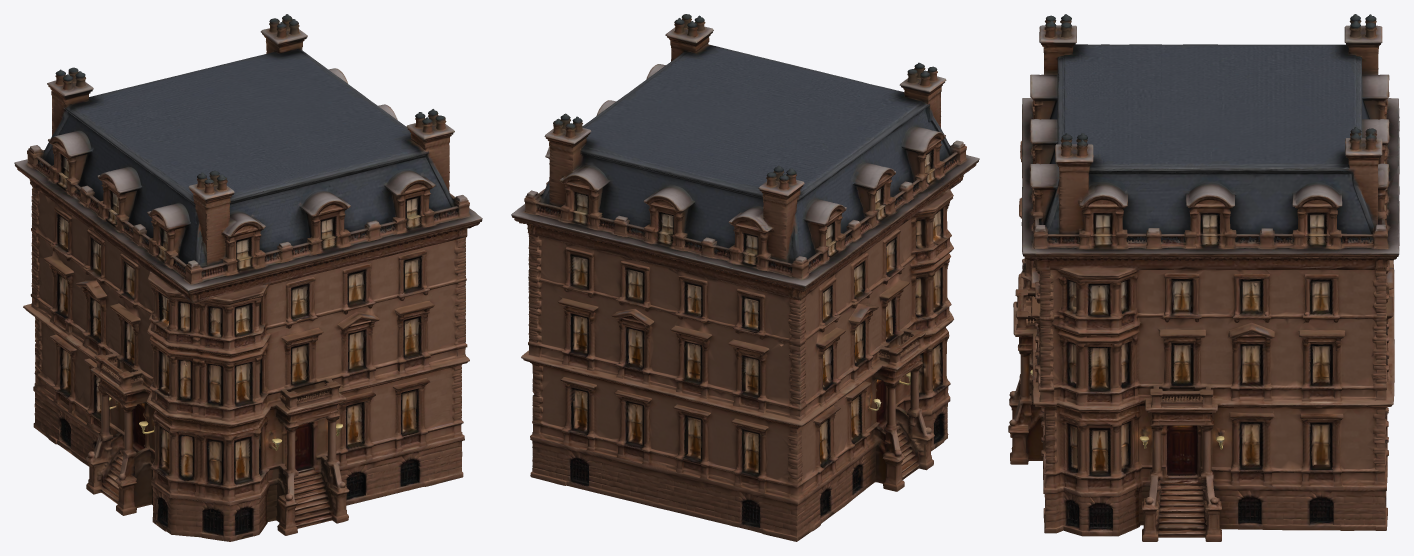
File: GildedAgeMansion_LOD0.fbx
3 renders of one model, left to right at view 1: azimuth 30°, elevation 25°; view 2: azimuth 150°, elevation 25°; view 3: azimuth 270°, elevation 25°, orthographic. The views are drawn at different scales.
Visible parts, largest first — view 1: GildedAgeMansion_LOD0; view 2: GildedAgeMansion_LOD0; view 3: GildedAgeMansion_LOD0.
Part boxes in pixels (box(x1,y1,x2,y2)): GildedAgeMansion_LOD0: box(14, 14, 482, 541); GildedAgeMansion_LOD0: box(511, 14, 979, 541); GildedAgeMansion_LOD0: box(1008, 14, 1399, 541).
Bounding box in the file's own units: 1466 × 1600 × 1465.
